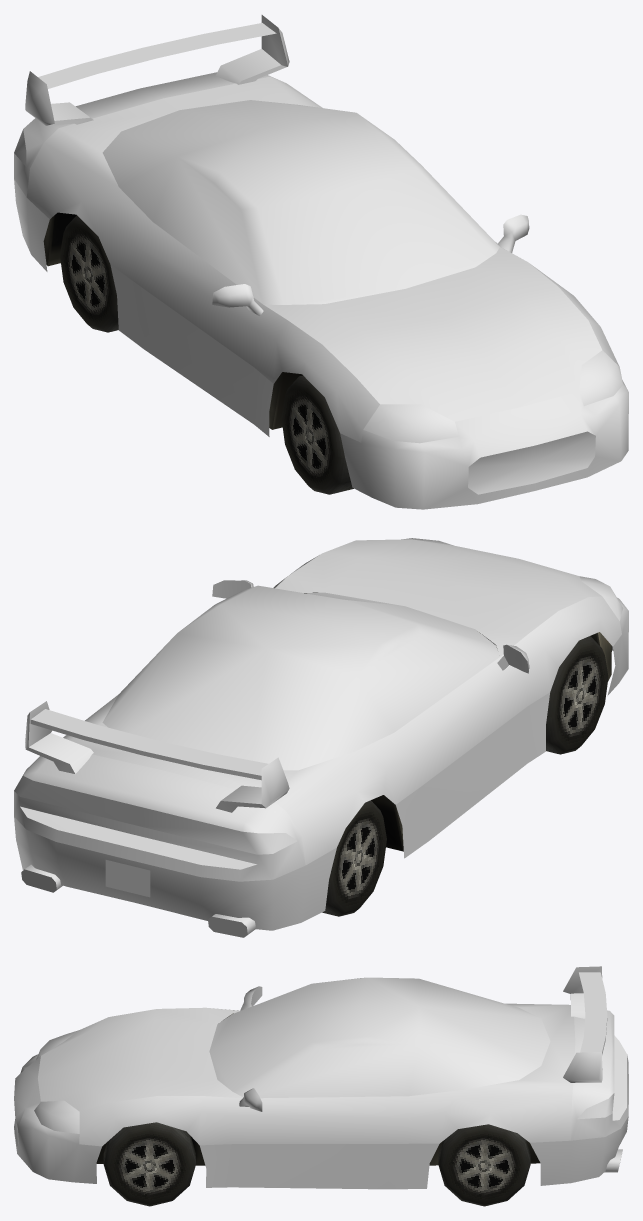
The picture shows the model from 3 angles, top to bottom: view 1: azimuth 30°, elevation 25°; view 2: azimuth 150°, elevation 25°; view 3: azimuth 270°, elevation 25°; orthographic projection. The views are drawn at different scales.
Parts seen in each view (by area): view 1: body, hood, front_bumper, skirts, spoiler, front_right, back_right, headlights, tail_lights, chassis, Plane.010, rear_bumper; view 2: body, tail_lights, hood, rear_bumper, skirts, spoiler, front_right, back_right, exhaust, chassis, Plane.012, Plane.010 (+2 smaller); view 3: body, hood, skirts, front_left, back_left, front_bumper, tail_lights, spoiler, rear_bumper, headlights, Plane.010, chassis.
Boxes of the visible parts, x1=… form: body: x1=26, y1=76, x2=619, y2=442; hood: x1=264, y1=247, x2=601, y2=421; front_bumper: x1=340, y1=380, x2=628, y2=509; skirts: x1=110, y1=264, x2=273, y2=436; spoiler: x1=25, y1=15, x2=289, y2=125; front_right: x1=281, y1=375, x2=353, y2=494; back_right: x1=60, y1=215, x2=118, y2=332; headlights: x1=363, y1=350, x2=623, y2=443; tail_lights: x1=14, y1=72, x2=280, y2=196; chassis: x1=43, y1=212, x2=302, y2=429; Plane.010: x1=212, y1=214, x2=529, y2=315; rear_bumper: x1=14, y1=179, x2=49, y2=271; body: x1=63, y1=555, x2=621, y2=864; tail_lights: x1=14, y1=754, x2=305, y2=881; hood: x1=275, y1=539, x2=601, y2=656; rear_bumper: x1=14, y1=817, x2=336, y2=930; skirts: x1=396, y1=692, x2=549, y2=858; spoiler: x1=25, y1=701, x2=289, y2=812; front_right: x1=546, y1=636, x2=608, y2=754; back_right: x1=322, y1=800, x2=386, y2=916; exhaust: x1=21, y1=864, x2=255, y2=937; chassis: x1=304, y1=592, x2=611, y2=851; Plane.012: x1=105, y1=860, x2=150, y2=897; Plane.010: x1=212, y1=580, x2=529, y2=673; body: x1=79, y1=977, x2=575, y2=1146; hood: x1=38, y1=1007, x2=243, y2=1111; skirts: x1=199, y1=1143, x2=439, y2=1189; front_left: x1=103, y1=1122, x2=195, y2=1206; back_left: x1=438, y1=1124, x2=530, y2=1206; front_bumper: x1=14, y1=1054, x2=101, y2=1183; tail_lights: x1=571, y1=1010, x2=628, y2=1140; spoiler: x1=563, y1=966, x2=607, y2=1082; rear_bumper: x1=530, y1=1116, x2=628, y2=1185; headlights: x1=34, y1=1030, x2=79, y2=1133; Plane.010: x1=239, y1=986, x2=262, y2=1111; chassis: x1=96, y1=1013, x2=540, y2=1165.
Size of the model in its own units: 139 by 85.25 by 309.
